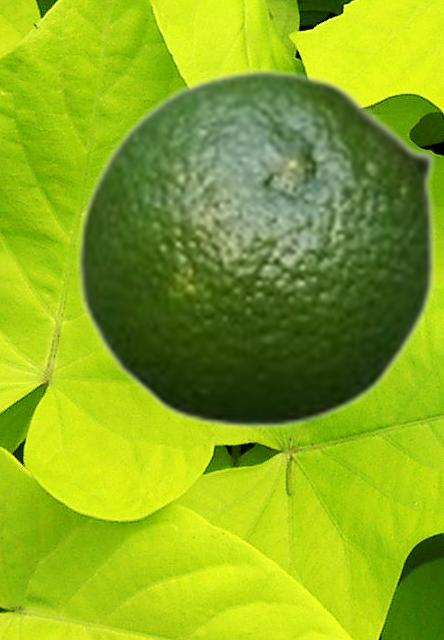calamansi: (76, 68, 438, 430)
